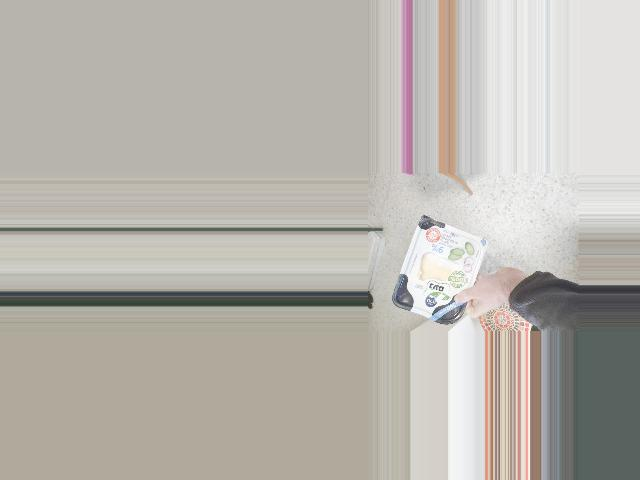cheese: (404, 226, 476, 313)
